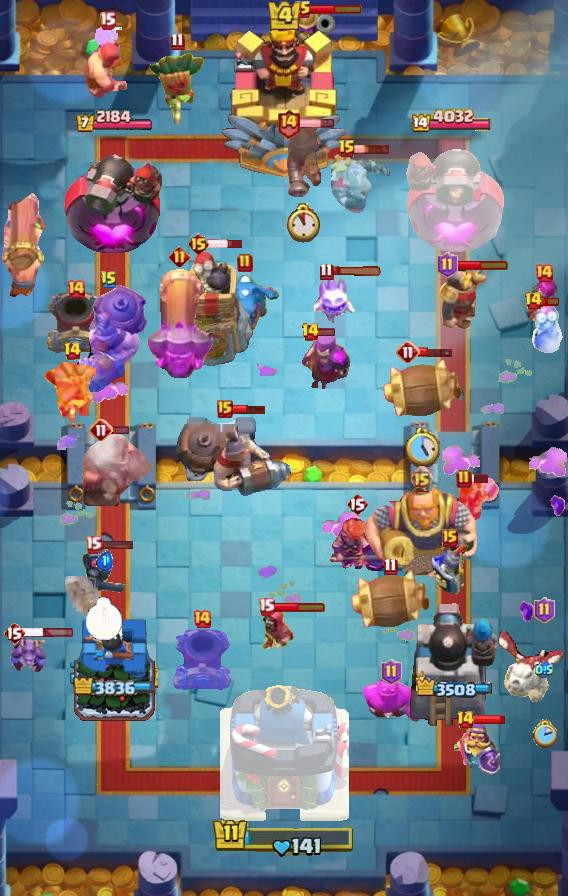archer: (525, 280, 563, 326)
bar: (273, 601, 326, 613), (456, 259, 509, 271), (310, 3, 363, 15), (22, 627, 74, 638), (331, 266, 383, 277), (207, 238, 244, 250), (354, 143, 391, 155), (418, 346, 454, 358), (298, 118, 335, 129), (231, 404, 267, 415), (99, 539, 134, 550), (472, 714, 506, 725), (470, 473, 490, 484), (540, 296, 560, 307), (111, 425, 130, 435), (317, 327, 336, 337)
bar-level: (276, 108, 301, 139), (89, 418, 113, 442), (396, 340, 420, 364), (187, 232, 210, 256), (381, 659, 402, 685), (534, 597, 555, 623), (437, 252, 458, 278), (410, 466, 433, 489), (3, 621, 25, 645), (346, 492, 368, 516), (169, 246, 190, 267), (192, 609, 212, 629), (66, 279, 86, 299), (534, 263, 554, 283), (456, 710, 475, 730), (63, 341, 82, 361), (301, 322, 320, 342), (524, 291, 543, 311), (100, 270, 118, 290), (338, 139, 356, 159), (294, 0, 312, 20), (258, 597, 275, 616), (85, 535, 102, 554), (99, 11, 116, 30), (456, 469, 472, 489), (237, 253, 253, 273), (442, 529, 458, 547), (217, 400, 233, 418), (383, 557, 398, 576), (319, 262, 334, 281), (170, 32, 185, 51)
barbarian-barrel: (348, 568, 432, 630), (380, 357, 464, 419)
bomber: (530, 303, 564, 355)
cannoneer-tower: (401, 138, 505, 256), (408, 599, 498, 731), (64, 138, 164, 256)
clock: (85, 597, 123, 641), (284, 203, 322, 243), (405, 428, 440, 467), (532, 719, 557, 748)
dart-goblin: (147, 52, 207, 128), (43, 362, 101, 424)
dirt: (65, 576, 107, 622)
electro-dragon: (209, 271, 281, 333)
elixir: (96, 551, 113, 571), (535, 661, 553, 679)
elixir-golem-mid: (360, 678, 422, 724)
guard: (429, 542, 471, 598)
ice-spirit-evolution: (314, 270, 358, 324)
king-tower: (219, 23, 349, 181), (220, 678, 349, 826)
king-tower-bar: (212, 817, 356, 859)
knight: (439, 268, 488, 329)
knight-evolution: (454, 722, 503, 776)
lumberjack: (79, 27, 135, 103)
mini-pekka: (79, 542, 129, 596)
minion: (9, 632, 49, 676)
mortar: (171, 626, 233, 694), (45, 289, 107, 357)
mother-witch: (297, 329, 351, 389)
musketeer: (284, 123, 322, 199), (293, 6, 335, 74)
queen-tower: (70, 616, 158, 731)
royal-ghost: (327, 147, 391, 219)
tower-bar: (412, 108, 494, 135), (75, 109, 154, 134), (414, 677, 492, 699), (73, 678, 156, 696)
valkyrie: (457, 477, 501, 525)
valkyrie-evolution: (327, 516, 387, 574)
wizard: (259, 605, 295, 653)
